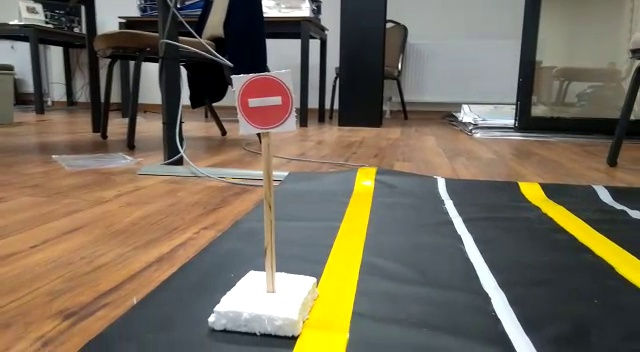girisi_olmayan_yol: (235, 69, 297, 135)
